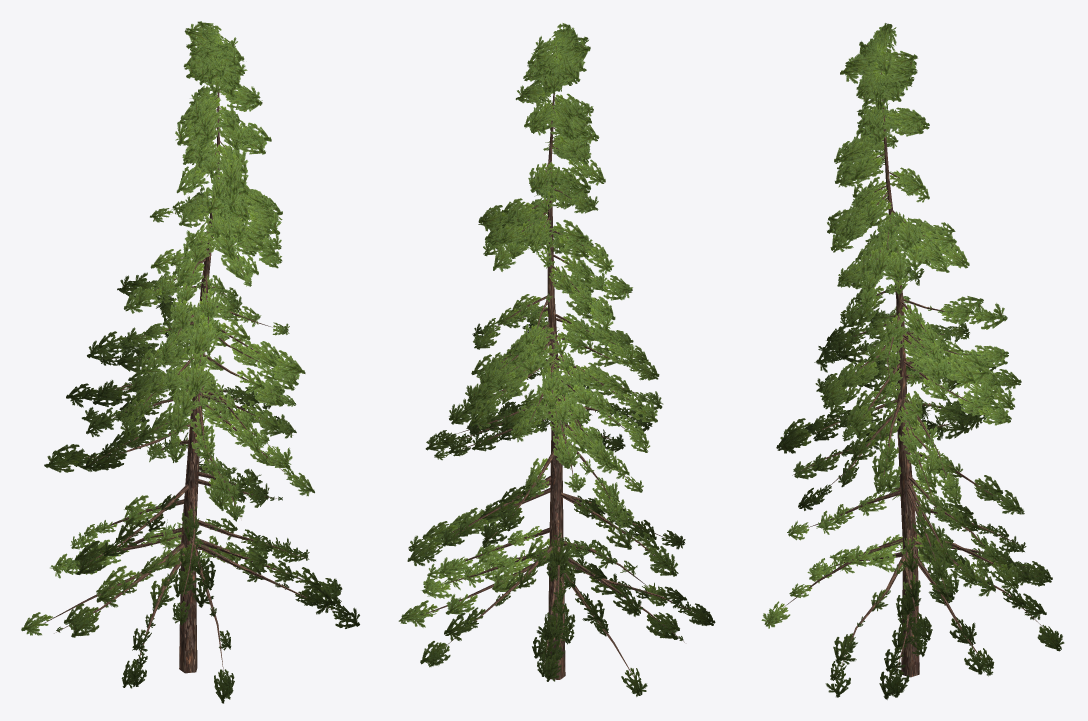
Rendered from eztree-pine-small.glb.
The picture shows the model from 3 angles, left to right: view 1: azimuth 30°, elevation 25°; view 2: azimuth 150°, elevation 25°; view 3: azimuth 270°, elevation 25°; orthographic projection. The views are drawn at different scales.
Parts seen in each view (by area): view 1: LOD0; view 2: LOD0; view 3: LOD0.
Boxes of the visible parts, bbox=[...] form: LOD0: bbox=[21, 21, 359, 703]; LOD0: bbox=[398, 23, 715, 696]; LOD0: bbox=[761, 23, 1064, 699].
Size of what is drawn, in the model's own units: 3.17 by 7 by 3.12.
Materials: 2 (2 with a texture image).
